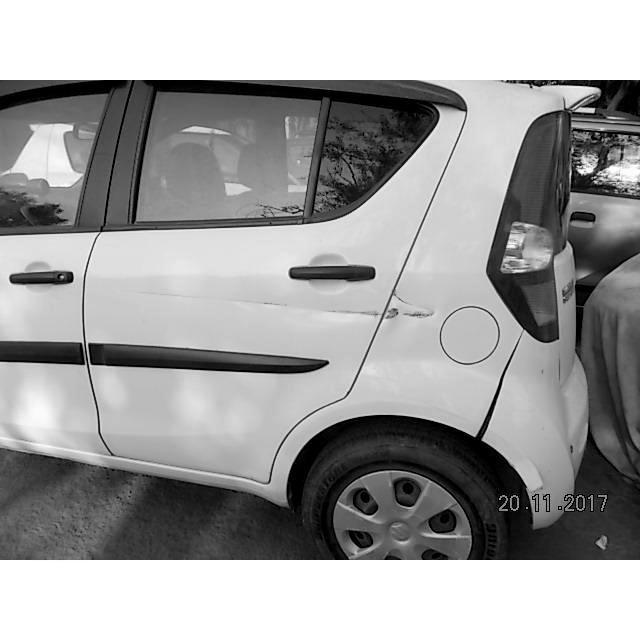doorouter-dent: (236, 289, 384, 331)
quaterpanel-dent: (381, 280, 449, 338)
